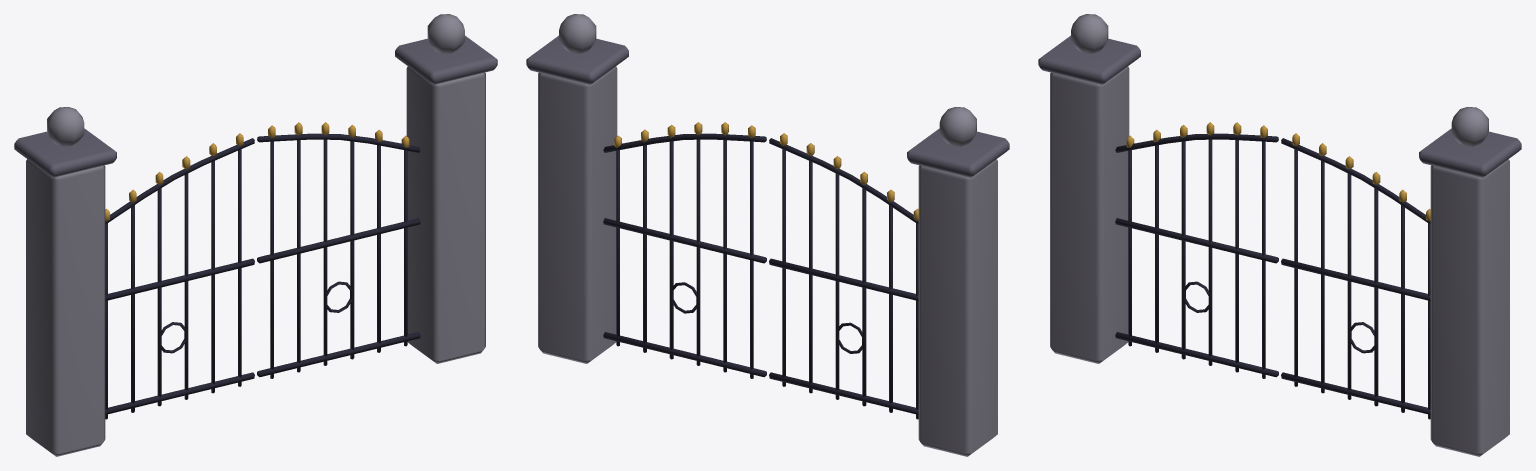
The model's file is park_gate.glb.
The picture shows the model from 3 angles, left to right: view 1: azimuth 30°, elevation 25°; view 2: azimuth 150°, elevation 25°; view 3: azimuth 330°, elevation 25°; orthographic projection.
Parts seen in each view (by area): view 1: park_gate, gate_R, gate_L; view 2: park_gate, gate_R, gate_L; view 3: park_gate, gate_L, gate_R.
Boxes of the visible parts, bbox=[...] form: park_gate: bbox=[14, 14, 497, 456]; gate_R: bbox=[257, 122, 420, 378]; gate_L: bbox=[105, 133, 254, 419]; park_gate: bbox=[526, 14, 1009, 456]; gate_R: bbox=[603, 122, 766, 378]; gate_L: bbox=[769, 133, 918, 419]; park_gate: bbox=[1038, 14, 1521, 456]; gate_L: bbox=[1115, 122, 1278, 378]; gate_R: bbox=[1281, 133, 1430, 419].
Size of the model in its own units: 3.3 by 2.35 by 0.5.
